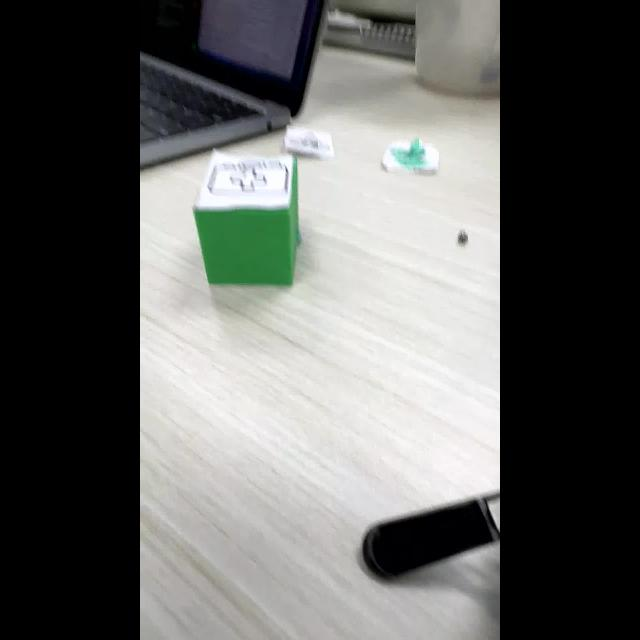Medkit: (207, 160, 292, 197)
